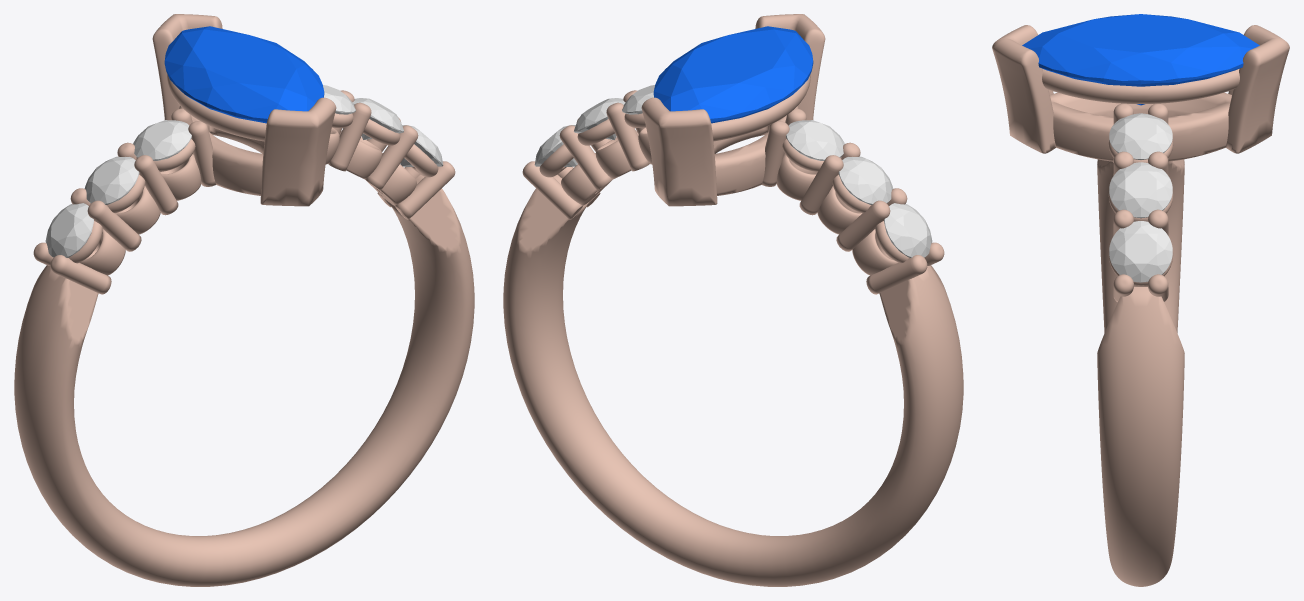
The model's file is bluesapphire-marquise-rosegold-protectededges2prongs-taperedband-7stone.glb.
The picture shows the model from 3 angles, left to right: view 1: azimuth 30°, elevation 25°; view 2: azimuth 150°, elevation 25°; view 3: azimuth 270°, elevation 25°; orthographic projection.
Visible parts, largest first — view 1: metal, stone.002, dia.001, dia.009, dia.010, dia.012, dia.011; view 2: metal, stone.002, dia.001, dia.009, dia.010, dia.012, dia.011; view 3: metal, stone.002, dia.011, dia.012, dia.013.
Boxes of the visible parts, bbox=[...] form: metal: bbox=[14, 14, 474, 586]; stone.002: bbox=[164, 26, 324, 123]; dia.001: bbox=[45, 203, 93, 257]; dia.009: bbox=[84, 156, 139, 204]; dia.010: bbox=[133, 120, 191, 160]; dia.012: bbox=[352, 98, 403, 139]; dia.011: bbox=[400, 125, 443, 166]; metal: bbox=[503, 14, 963, 586]; stone.002: bbox=[653, 26, 813, 123]; dia.001: bbox=[884, 203, 932, 257]; dia.009: bbox=[838, 156, 893, 204]; dia.010: bbox=[786, 120, 844, 160]; dia.012: bbox=[574, 98, 625, 139]; dia.011: bbox=[534, 125, 577, 166]; metal: bbox=[992, 25, 1289, 586]; stone.002: bbox=[1022, 14, 1259, 105]; dia.011: bbox=[1109, 221, 1172, 282]; dia.012: bbox=[1109, 162, 1172, 218]; dia.013: bbox=[1109, 113, 1172, 159].
Size of the model in its own units: 20.5 by 22.92 by 11.69.
